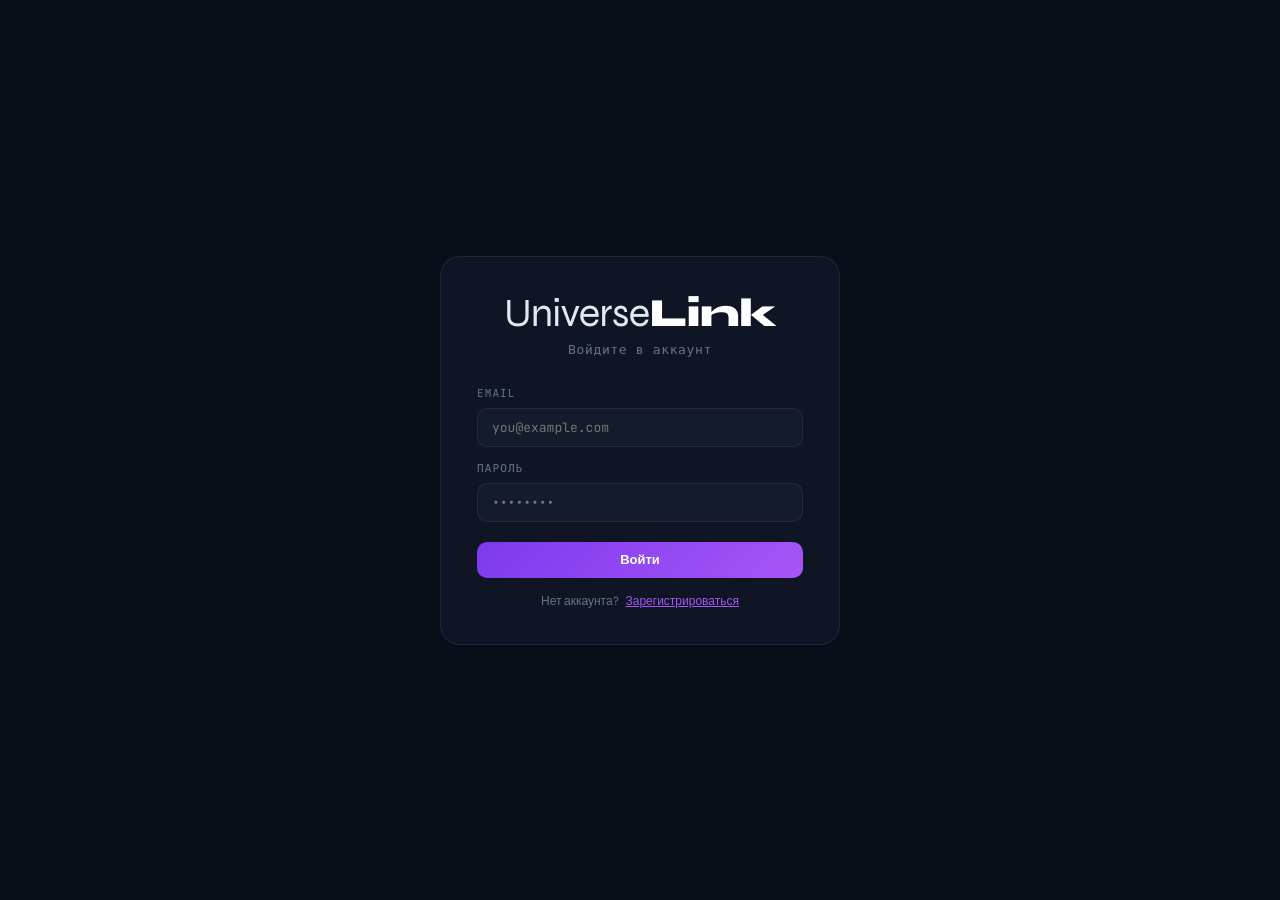
Test: App auth validation › shows friendly validation errors for empty fields
Click the button with class "btn-create" at (640, 560), box [477,542,803,578]
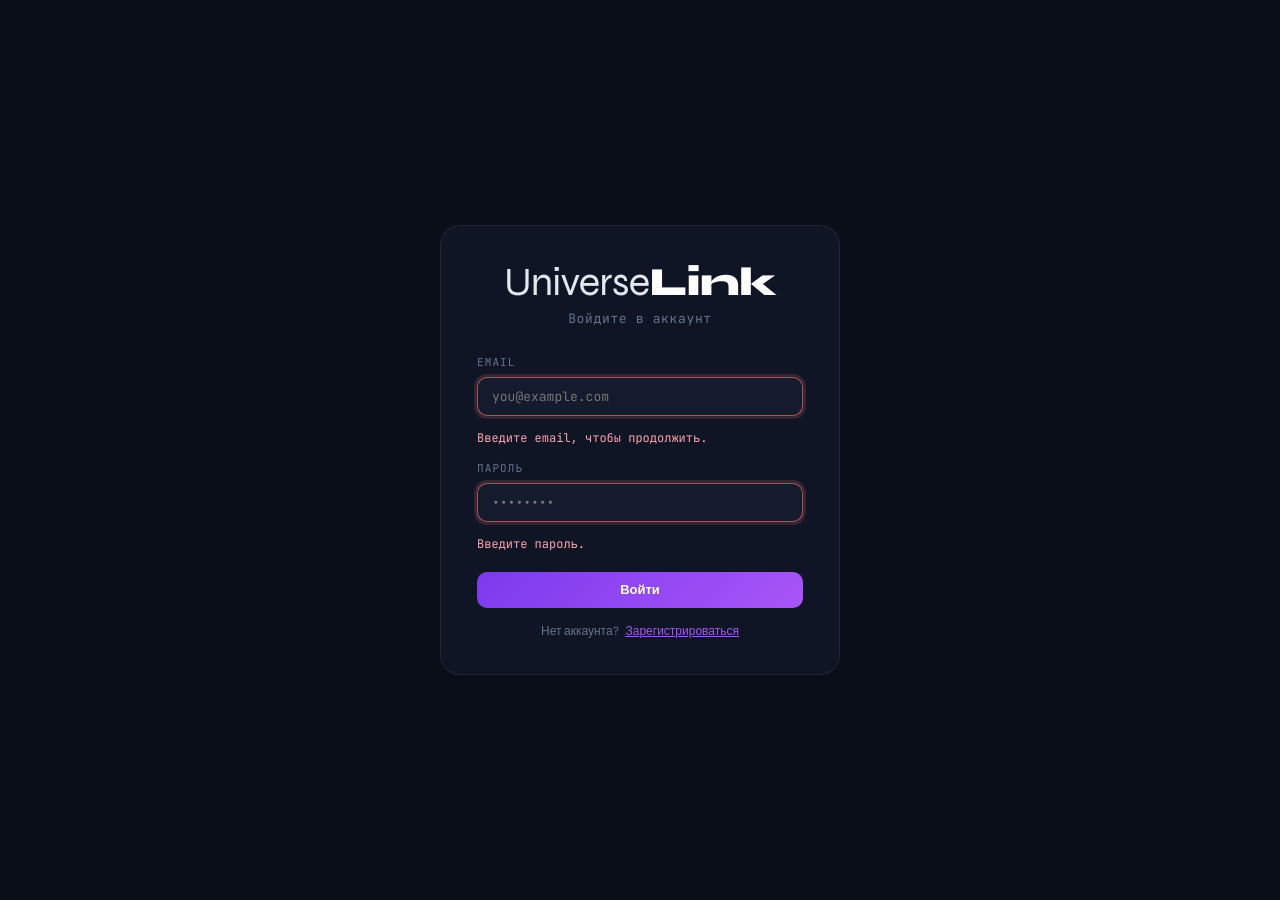
Result: the elements with class "field-error" read "Введите email, чтобы продолжить.", "Введите пароль.", in this order at [477,430,707,446]; [477,536,585,552]
